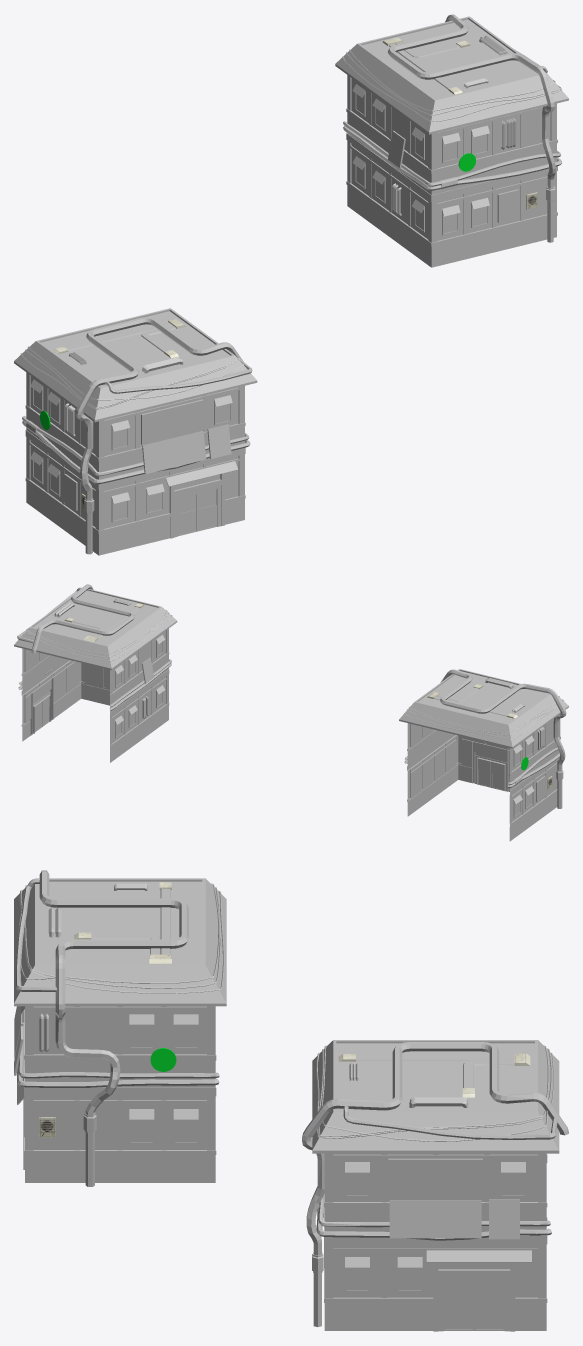
File: MERGED_SM_ENV_KNVLLG_CommonBuilding_A_2.mo.fbx
The picture shows the model from 3 angles, top to bottom: view 1: azimuth 30°, elevation 25°; view 2: azimuth 150°, elevation 25°; view 3: azimuth 270°, elevation 25°; orthographic projection. The views are drawn at different scales.
Visible parts, largest first — view 1: MERGED_SM_ENV_KNVLLG_CommonBuilding_A_2.mo; view 2: MERGED_SM_ENV_KNVLLG_CommonBuilding_A_2.mo; view 3: MERGED_SM_ENV_KNVLLG_CommonBuilding_A_2.mo.
Part boxes in pixels (x1,y1,x2,y2): MERGED_SM_ENV_KNVLLG_CommonBuilding_A_2.mo: [14, 14, 568, 555]; MERGED_SM_ENV_KNVLLG_CommonBuilding_A_2.mo: [14, 584, 568, 841]; MERGED_SM_ENV_KNVLLG_CommonBuilding_A_2.mo: [14, 870, 568, 1331].
Bounding box in the file's own units: 57.77 × 24.61 × 35.5.
